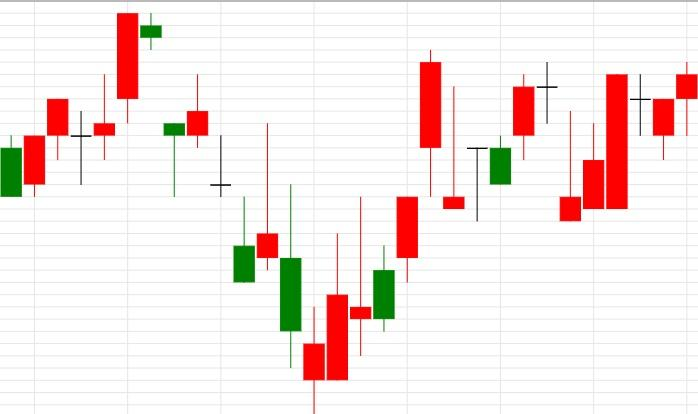inverse_hammer_rise: (513, 61, 582, 223)
